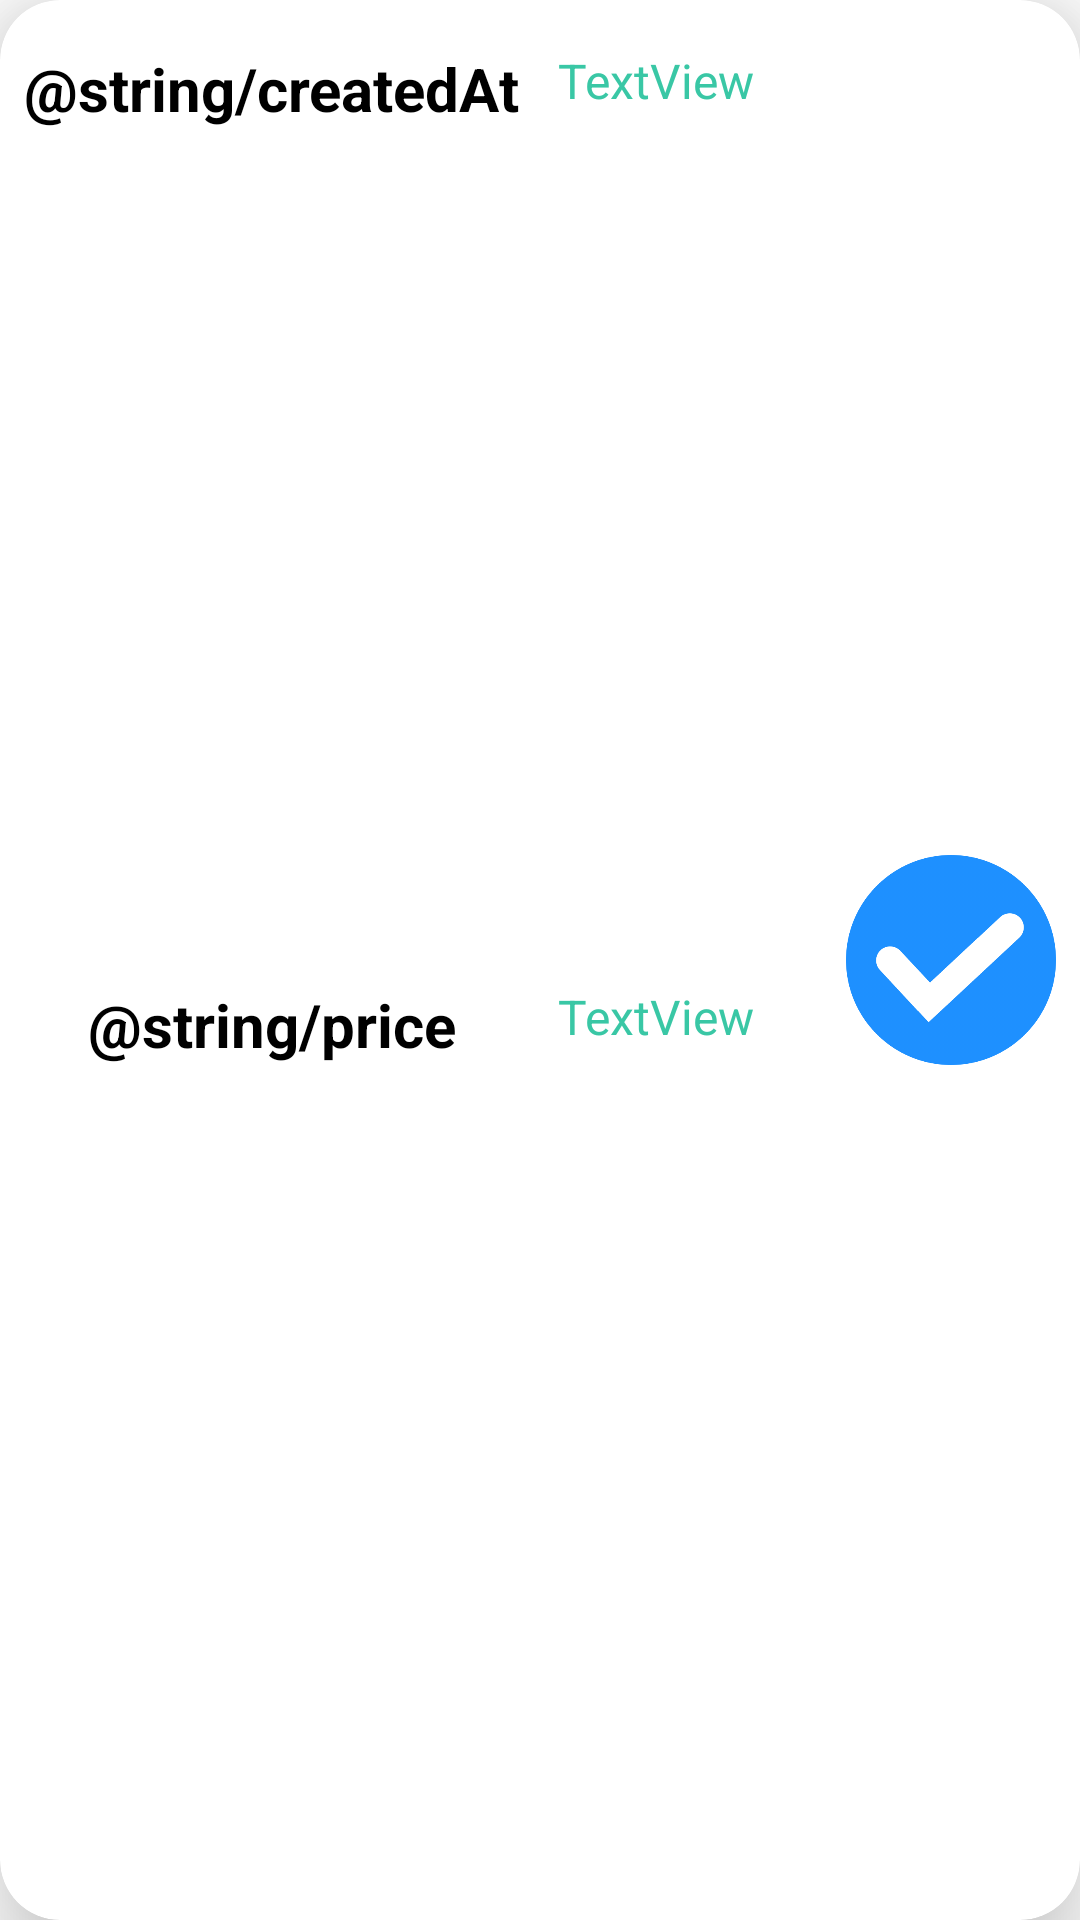

Icon bounding boxes for this 1080 × 1920 phone screenshot, format [x1, y1, x2, y2]:
check: [846, 855, 1056, 1065]
